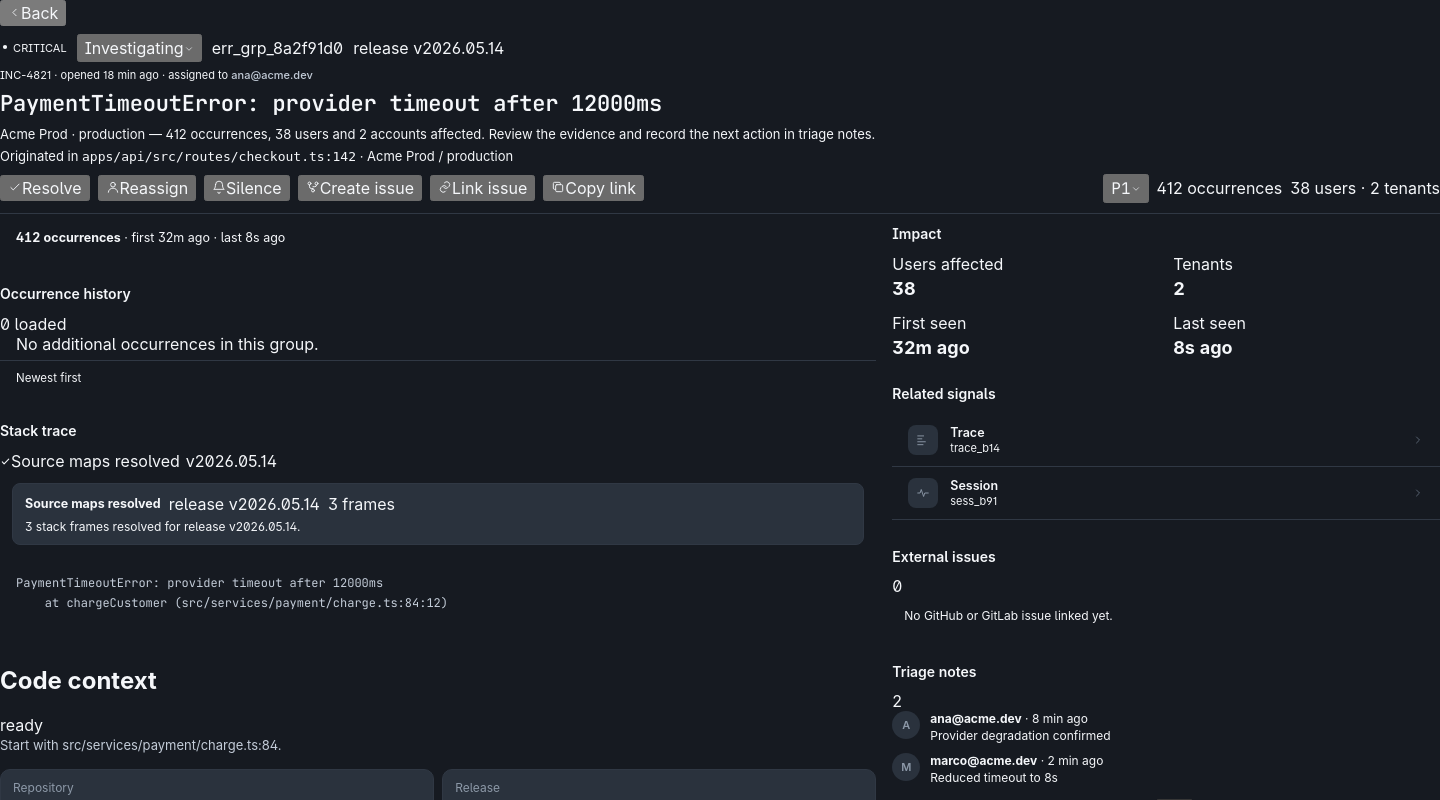
Scenario: IncidentScreen › action bar — Link issue › validates the issue URL and enables submit only for valid URLs
Click the button "Link issue": point(483, 188) [430,175,535,201]
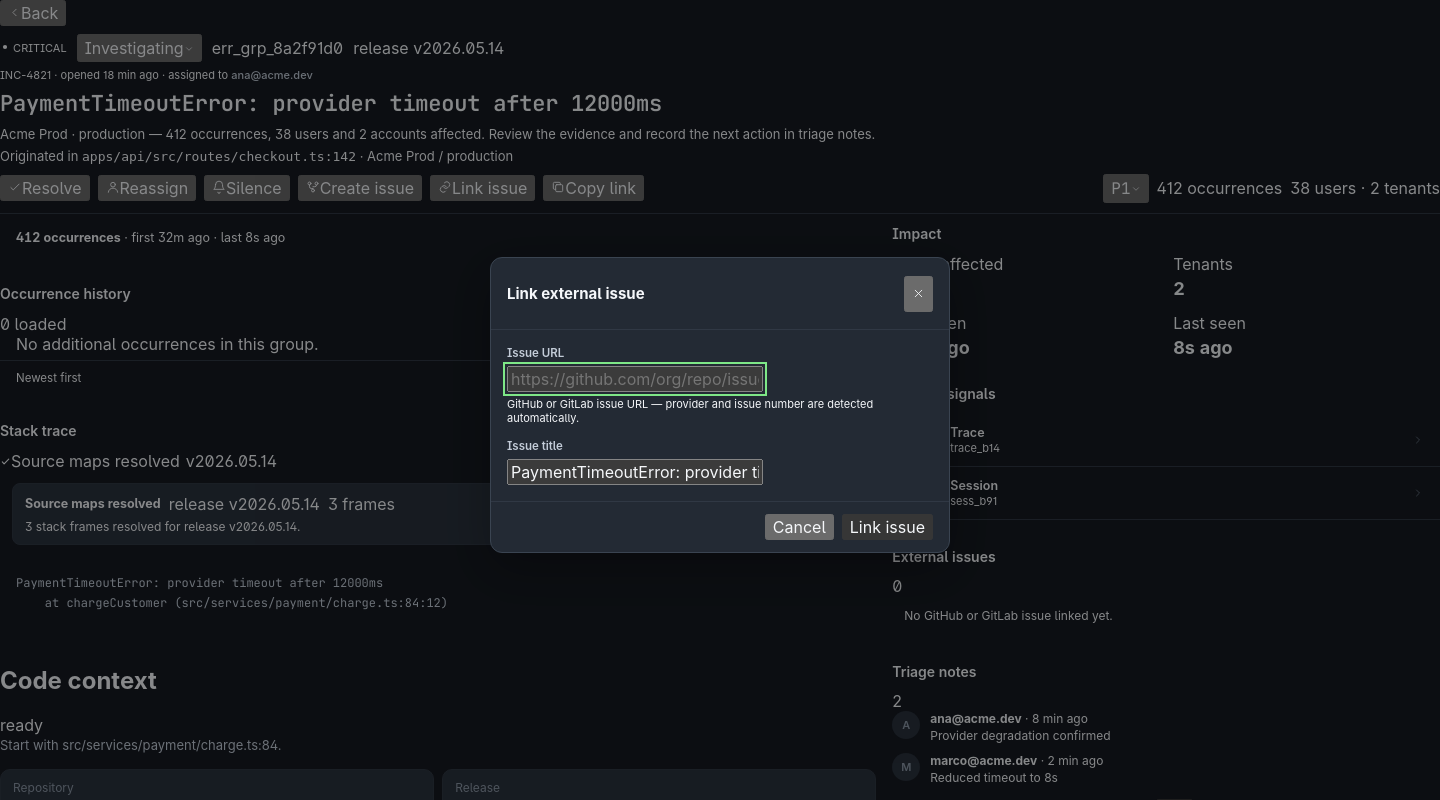
Expected: the button "Link issue" is disabled, [842,514,933,540]
In the field with placeholder "https://github.com/org/repo/issues/123": point(635, 379) [507,366,763,392], type "not-a-url"
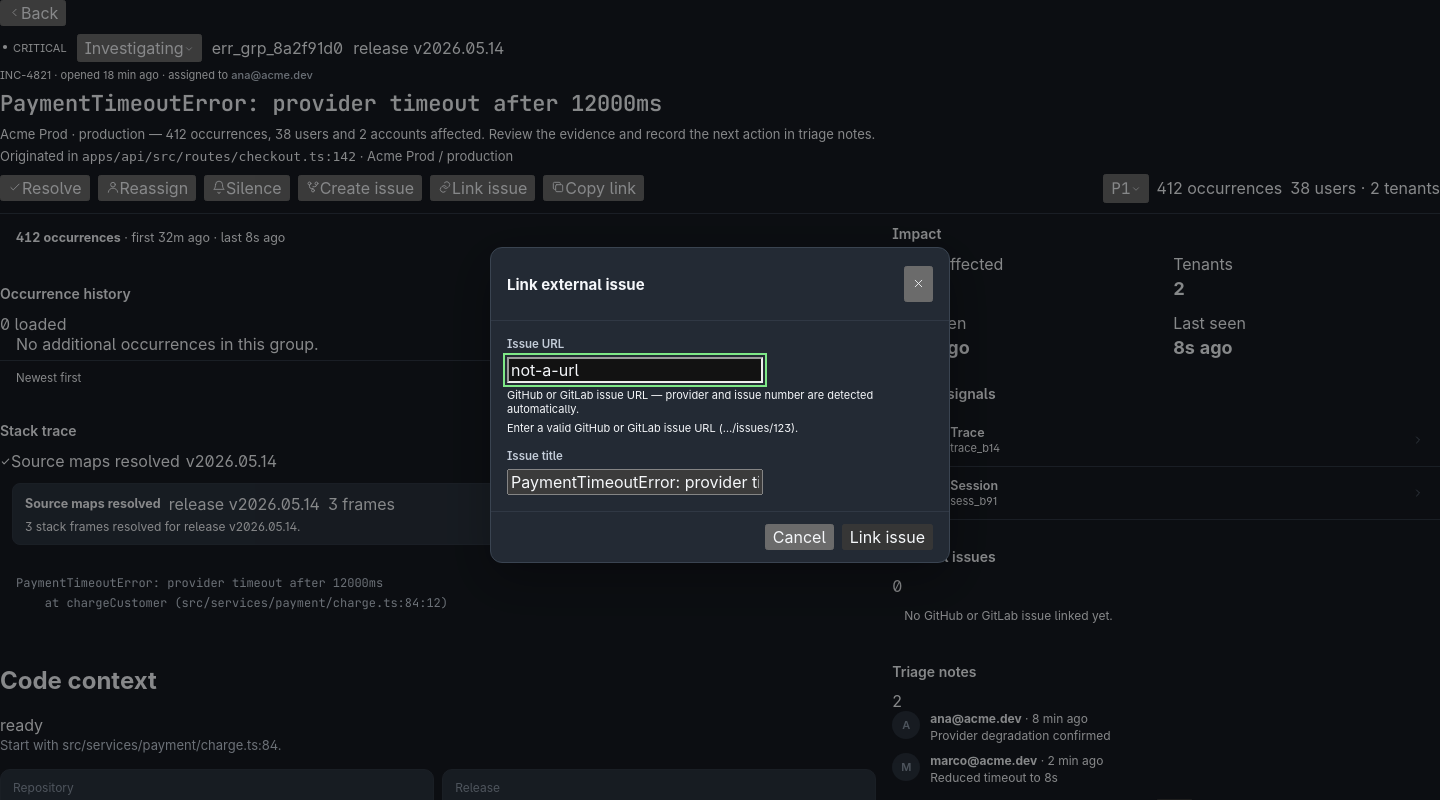
Expected: the button "Link issue" is disabled, [842,524,933,550]
Expected: the text "Enter a valid GitHub or GitLab issue URL (…/issues/123)." is shown, [507,421,798,435]
Clear the field with placeholder "https://github.com/org/repo/issues/123": point(635, 370) [507,357,763,383]
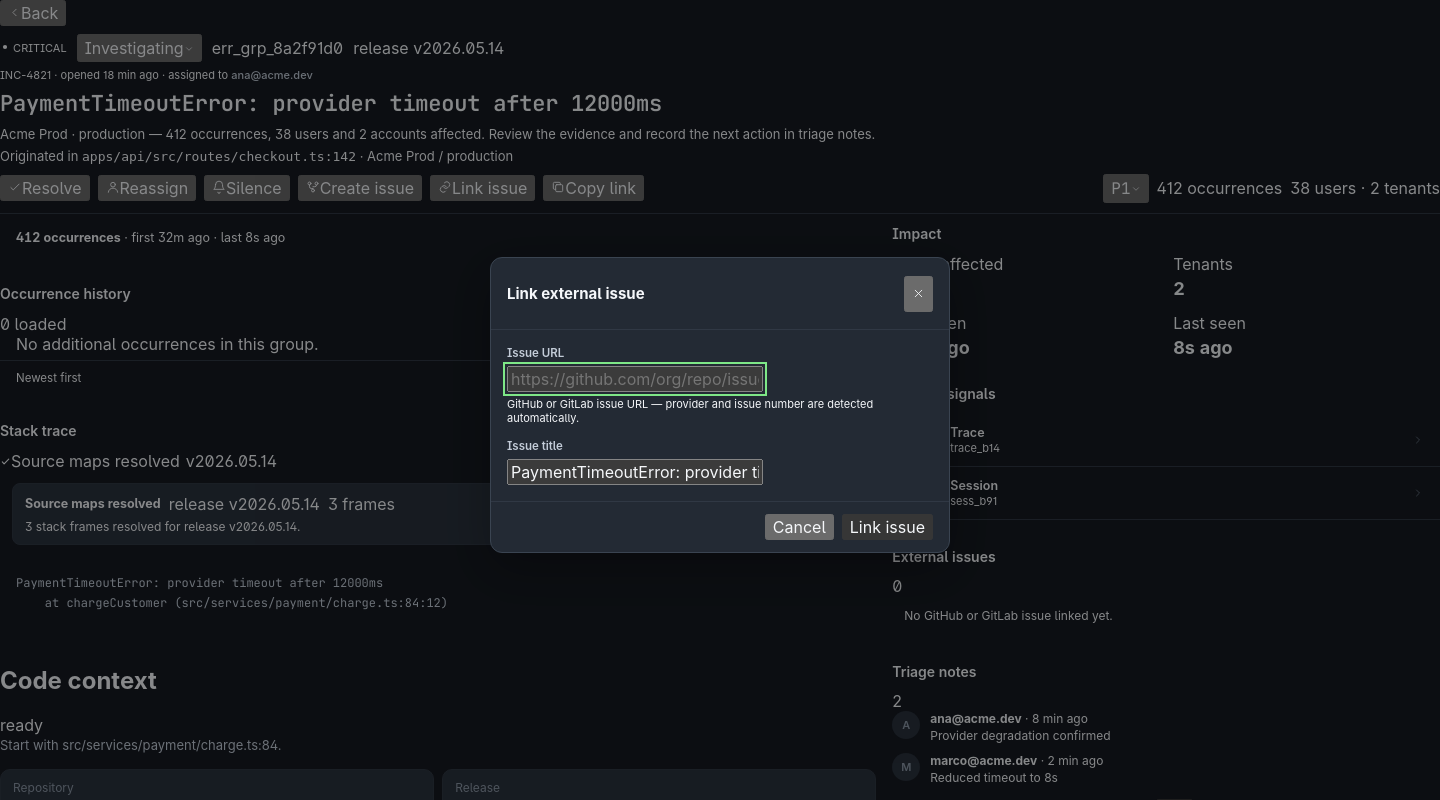
In the field with placeholder "https://github.com/org/repo/issues/123": point(635, 379) [507,366,763,392], type "https://github.com/acme/commerce/issues/123"
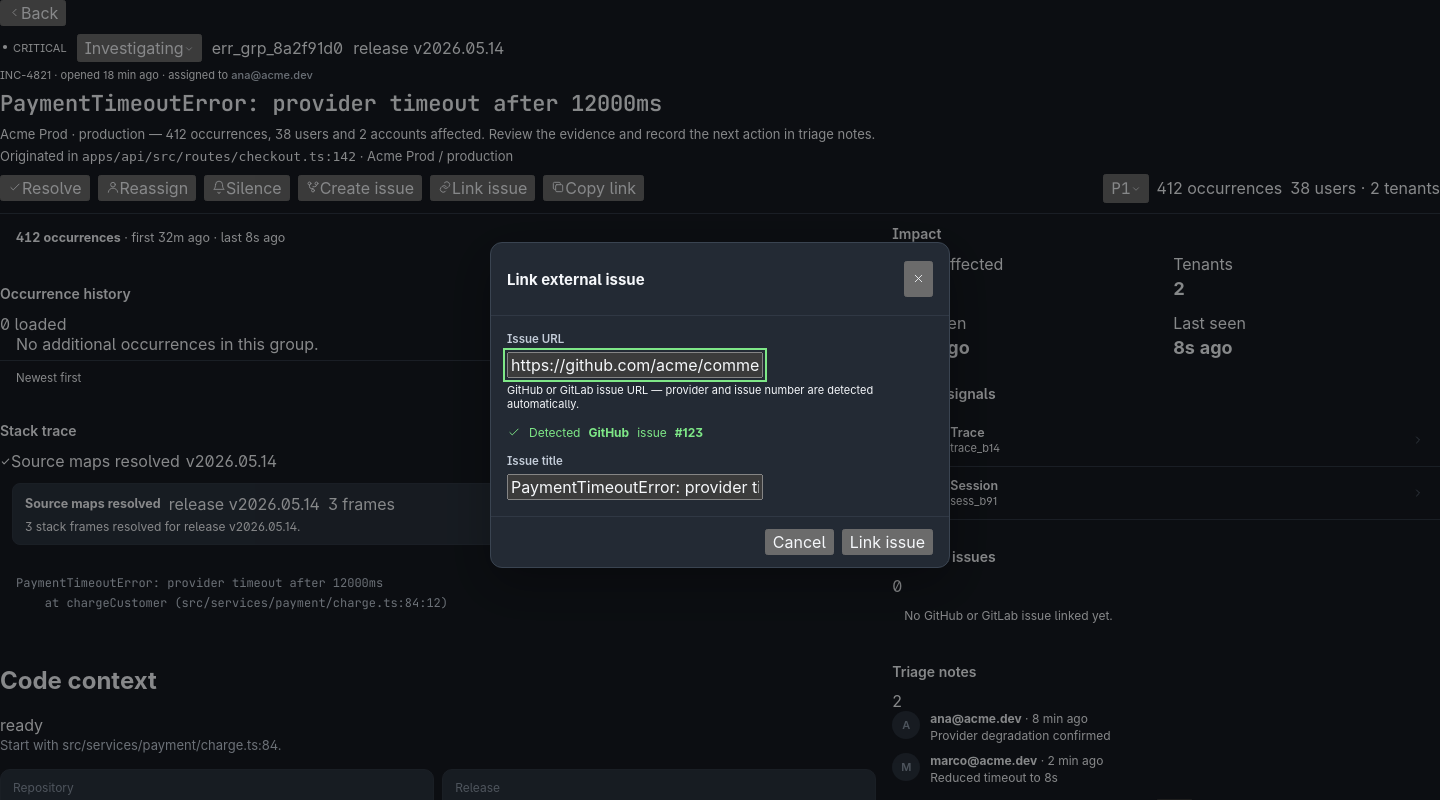
Expected: the button "Link issue" is enabled, [842,529,933,555]
